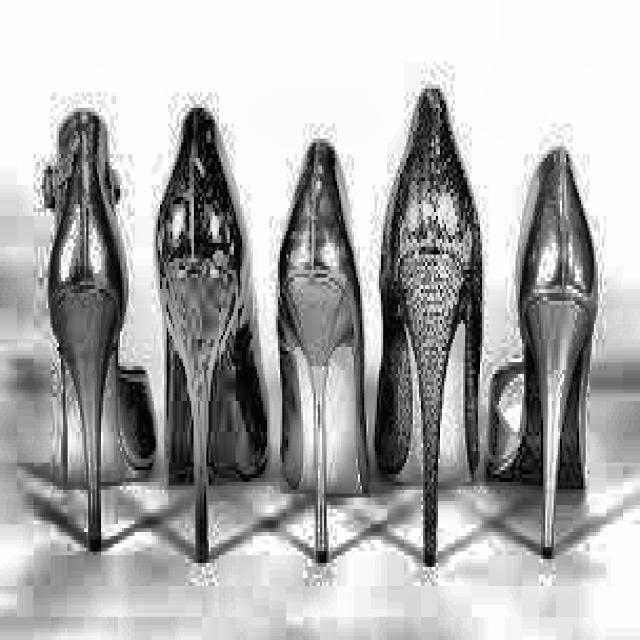shoes: (38, 86, 598, 572)
